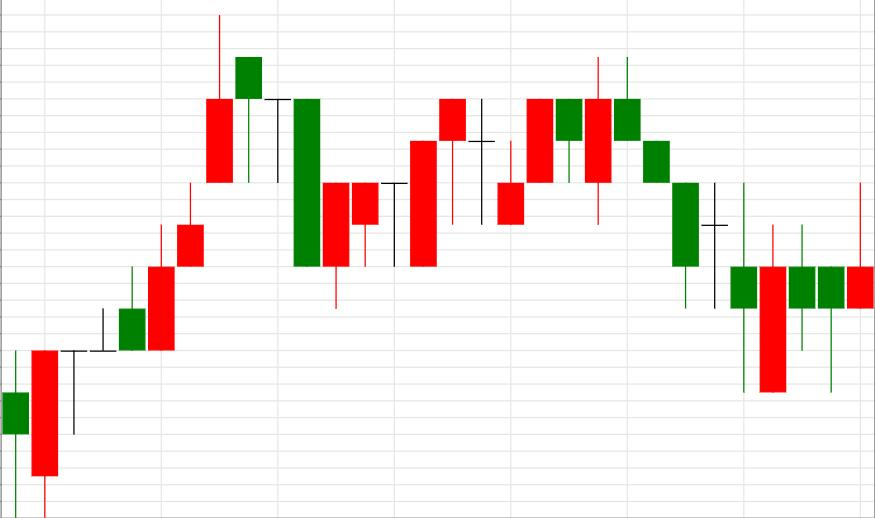hanging_man_fall: (31, 15, 263, 517)
